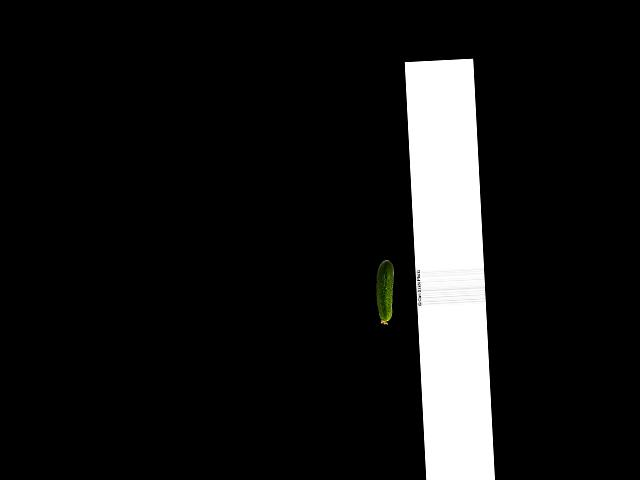cucumber: (374, 259, 396, 324)
